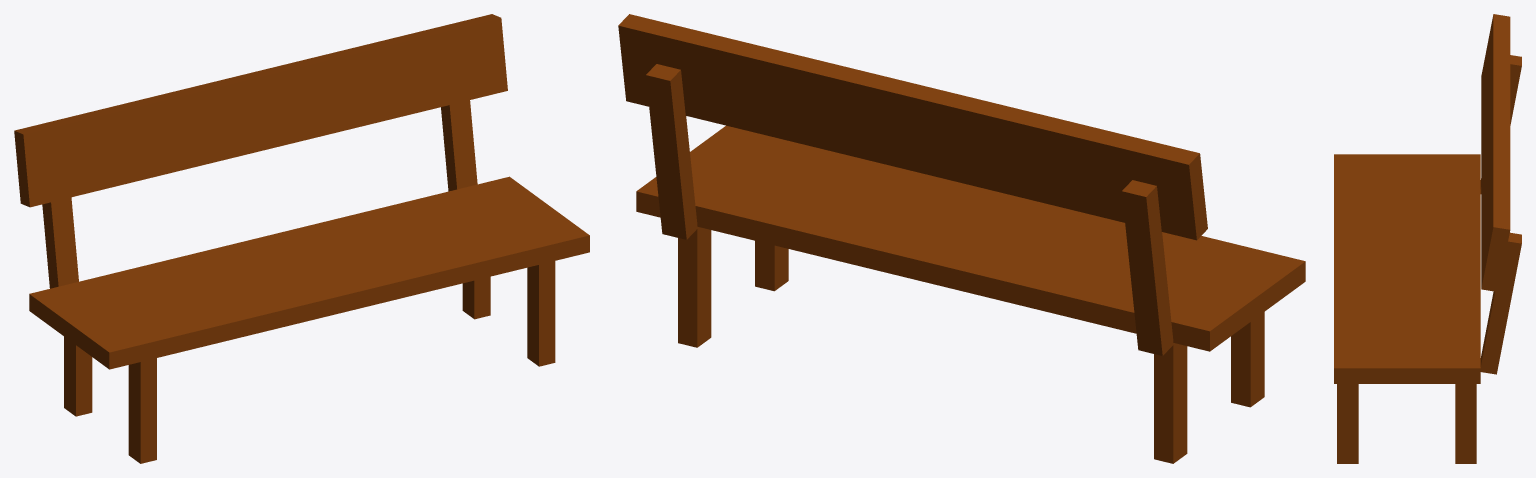
The model's file is benchTesting.fbx.
The picture shows the model from 3 angles, left to right: view 1: azimuth 30°, elevation 25°; view 2: azimuth 150°, elevation 25°; view 3: azimuth 270°, elevation 25°; orthographic projection. The views are drawn at different scales.
Visible parts, largest first — view 1: prop_bench; view 2: prop_bench; view 3: prop_bench.
Boxes of the visible parts, x1,y1,x2,y2 form: prop_bench: (14,14,589,463); prop_bench: (618,14,1305,463); prop_bench: (1334,14,1521,463).
Bounding box in the file's own units: 171 × 93.59 × 63.54.
